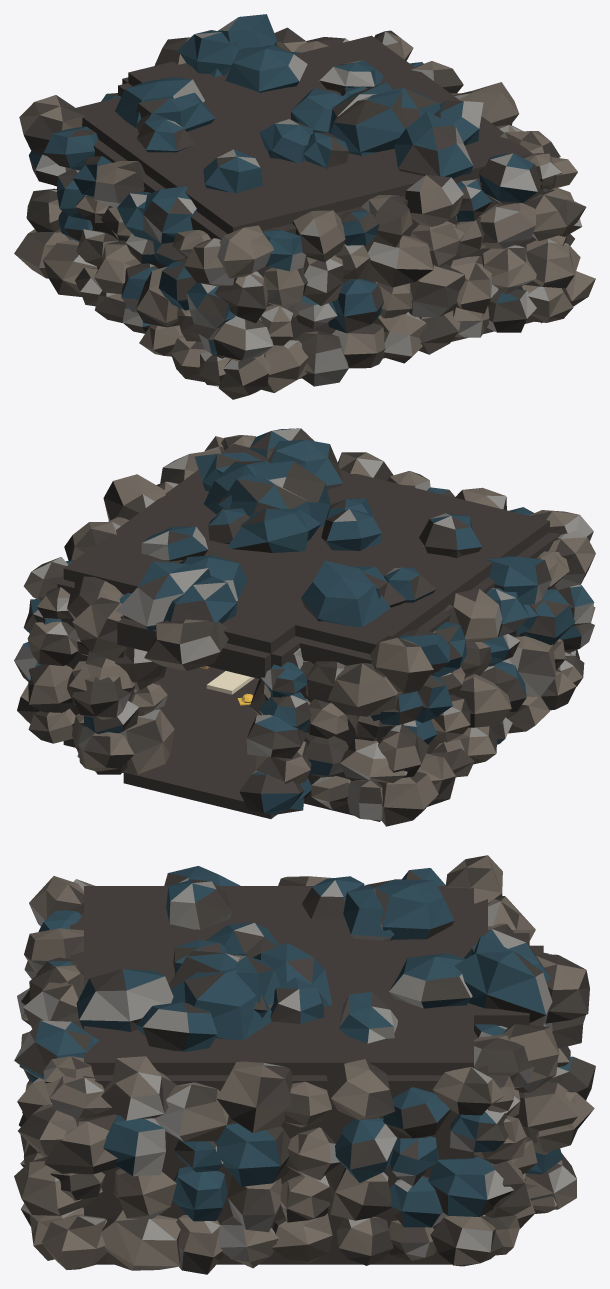
The model's file is Cave_Flooded_CrewPocket.fbx.
3 renders of one model, top to bottom at view 1: azimuth 30°, elevation 25°; view 2: azimuth 150°, elevation 25°; view 3: azimuth 270°, elevation 25°, orthographic. The views are drawn at different scales.
Visible parts, largest first — view 1: Decor, Ceiling2, Wall3, Wall6, Ceiling1; view 2: Decor, Ceiling2, Floor2, Floor1, Wall8, Ceiling1, Wall1, Wall6, Wall7; view 3: Decor, Ceiling2, Wall4, Floor2, Ceiling1.
Boxes of the visible parts, <box> form: Decor: <box>14,14,595,399</box>; Ceiling2: <box>76,35,533,233</box>; Wall3: <box>256,178,539,339</box>; Wall6: <box>73,139,227,268</box>; Ceiling1: <box>128,44,283,85</box>; Decor: <box>14,428,595,826</box>; Ceiling2: <box>63,444,549,653</box>; Floor2: <box>63,667,380,821</box>; Floor1: <box>123,759,277,818</box>; Wall8: <box>117,618,270,679</box>; Ceiling1: <box>123,610,295,653</box>; Wall1: <box>289,636,377,809</box>; Wall6: <box>390,532,560,753</box>; Wall7: <box>271,636,304,697</box>; Decor: <box>14,855,595,1274</box>; Ceiling2: <box>84,886,473,1075</box>; Wall4: <box>84,1075,473,1257</box>; Floor2: <box>96,1258,451,1264</box>; Ceiling1: <box>474,933,529,1027</box>.
Bounding box in the file's own units: 40.43 × 19.86 × 41.77.
